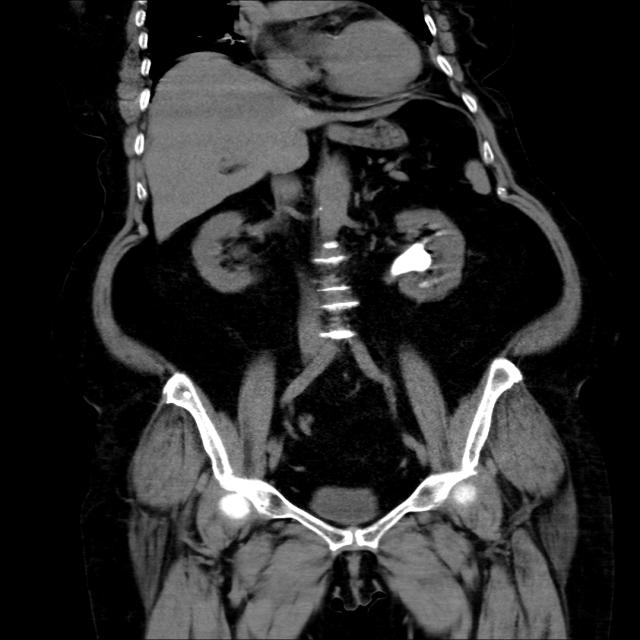kidneystone: (390, 244, 431, 276)
